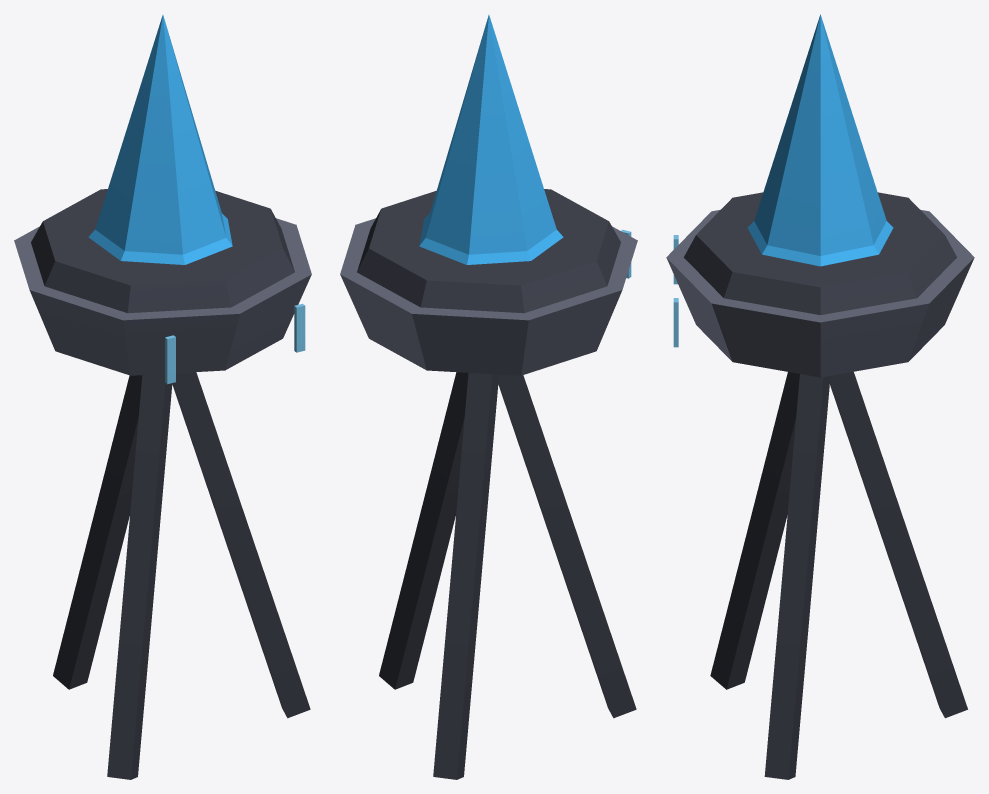
Rendered from cold_brazier.glb.
3 views of the same model, side by side, from view 1: azimuth 30°, elevation 25°; view 2: azimuth 150°, elevation 25°; view 3: azimuth 270°, elevation 25° (orthographic).
Parts seen in each view (by area): view 1: cold_brazier; view 2: cold_brazier; view 3: cold_brazier.
Boxes of the visible parts, <box> form: cold_brazier: <box>14,15,311,779</box>; cold_brazier: <box>340,15,637,779</box>; cold_brazier: <box>666,14,974,779</box>.
Size of the model in its own units: 1.24 by 3.15 by 1.24.
